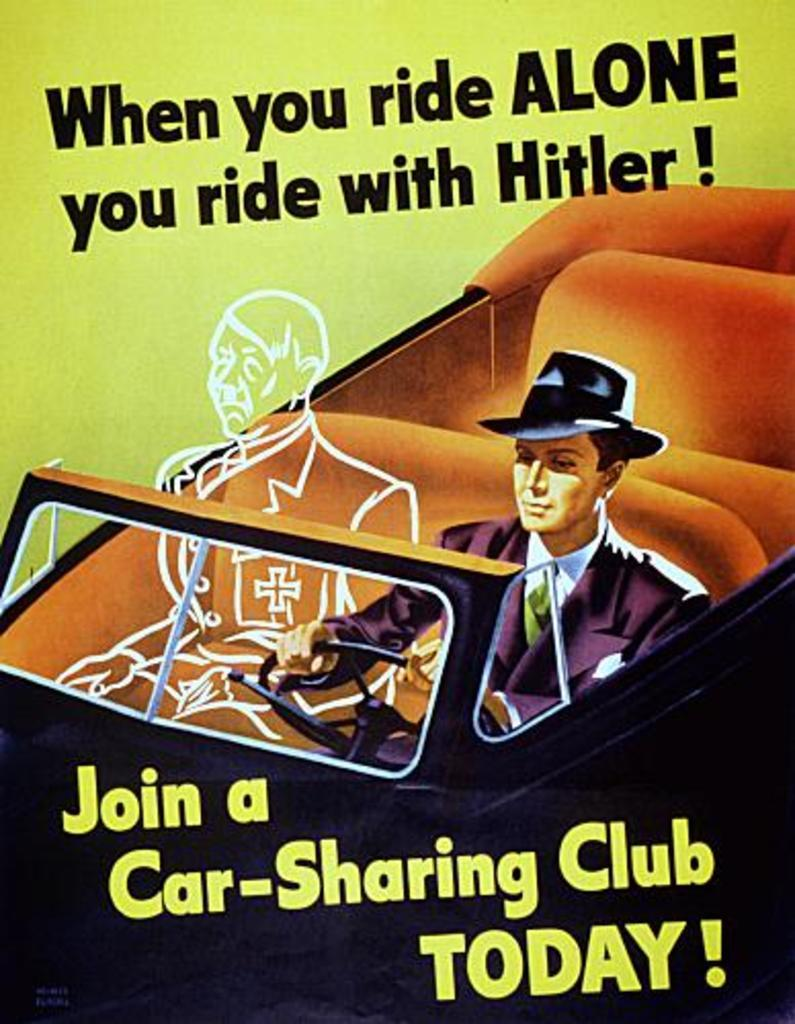Hat: (482, 348, 665, 466)
